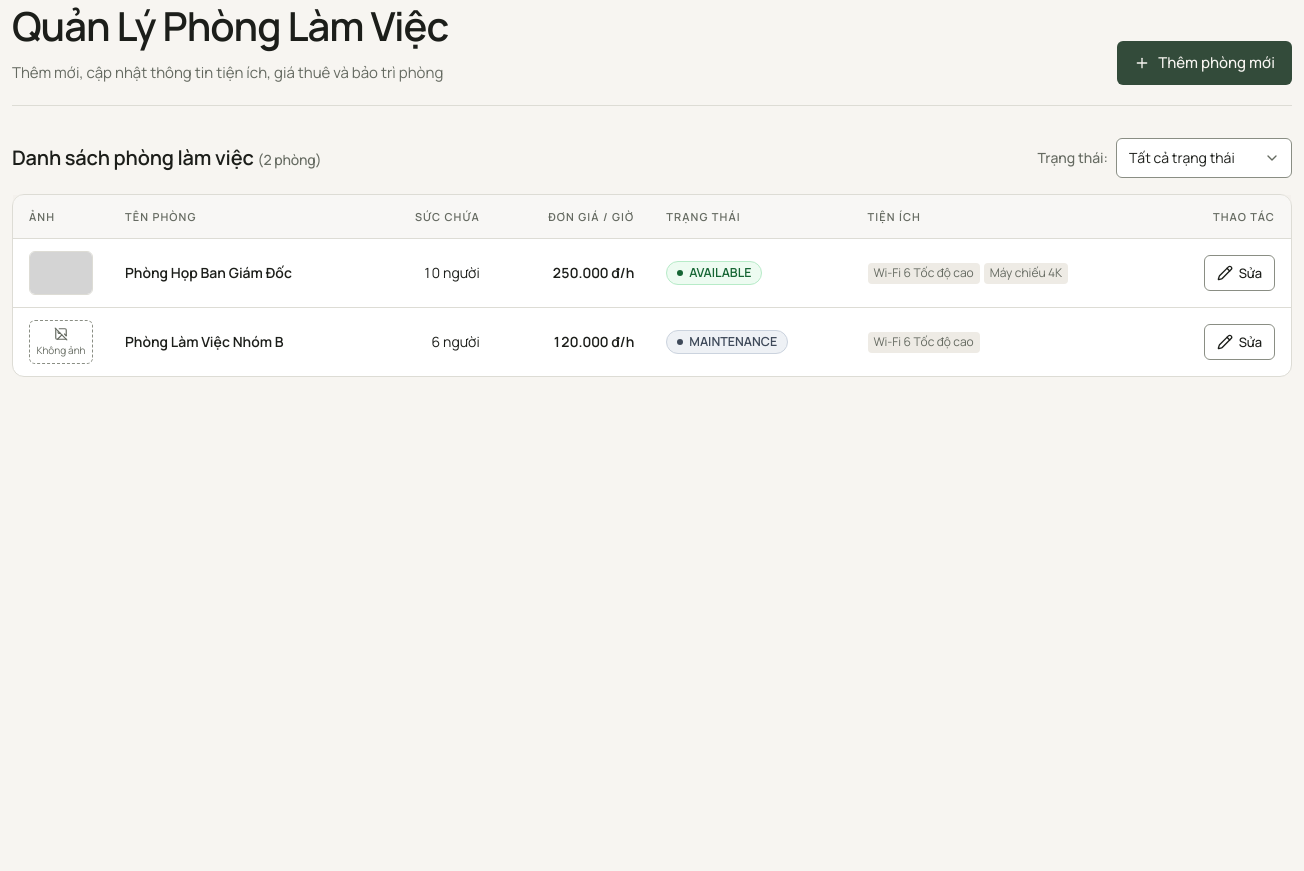
Test: AdminPage - Room Management & Form › Room List, Loading, Error, Empty & Pagination › shows an amenities error, blocks submit, and retries successfully
The width and height of the screenshot is (1304, 871).
expect the text "Phòng Họp Ban Giám Đốc" is shown: met, box [125,263,292,282]
Click the button with test id "admin-add-room-btn": (1205, 63) [1117,41,1292,85]
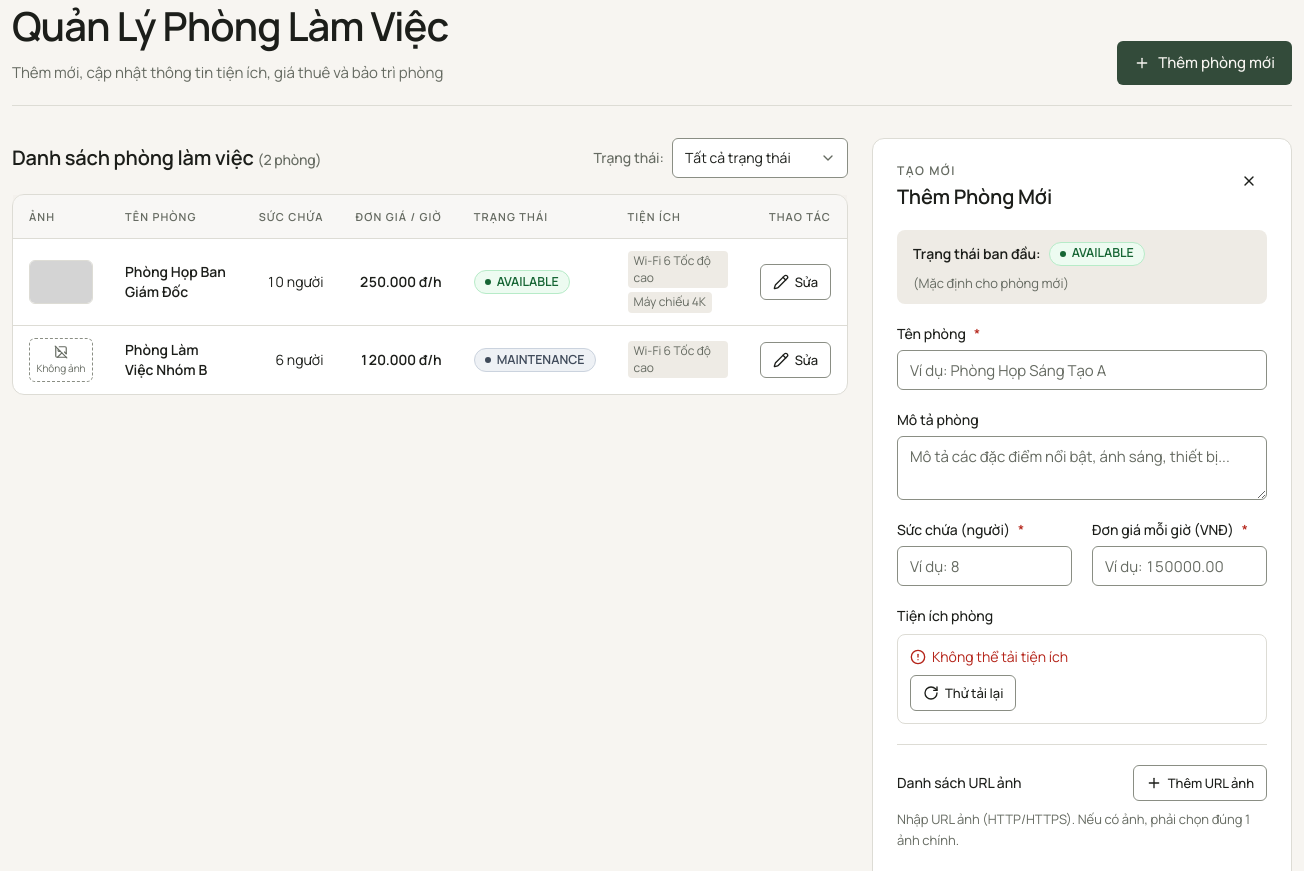
expect the text "Không thể tải tiện ích" is shown: met, box [910,647,1068,667]
Click the button "Thử tải lại": (963, 693) [910,675,1016,711]
(page scrolled)
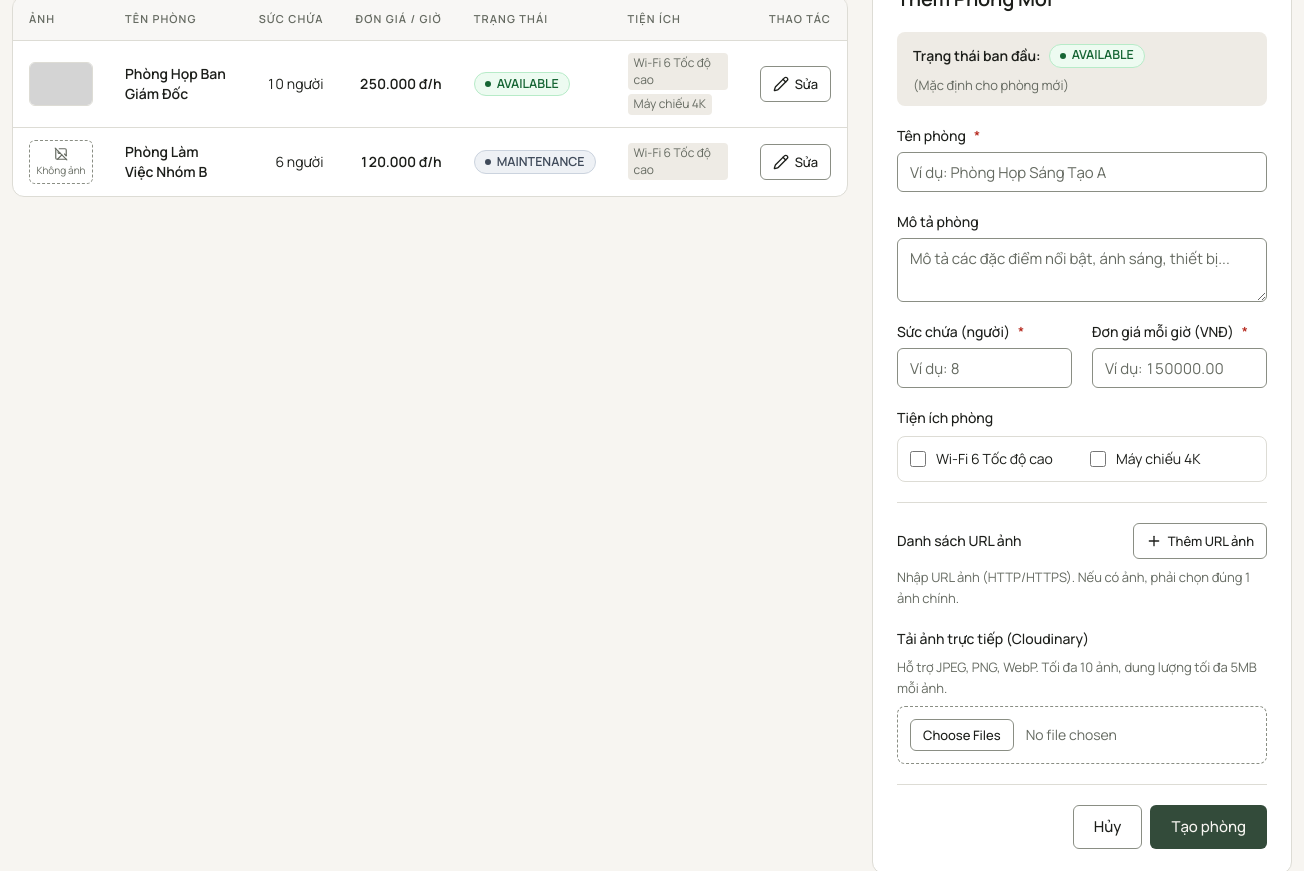
expect the checkbox labelled "Wi-Fi 6 Tốc độ cao" is shown: met, box [910,451,926,467]
expect the button with test id "admin-submit-room-btn" is enabled: met, box [1150,805,1267,849]
